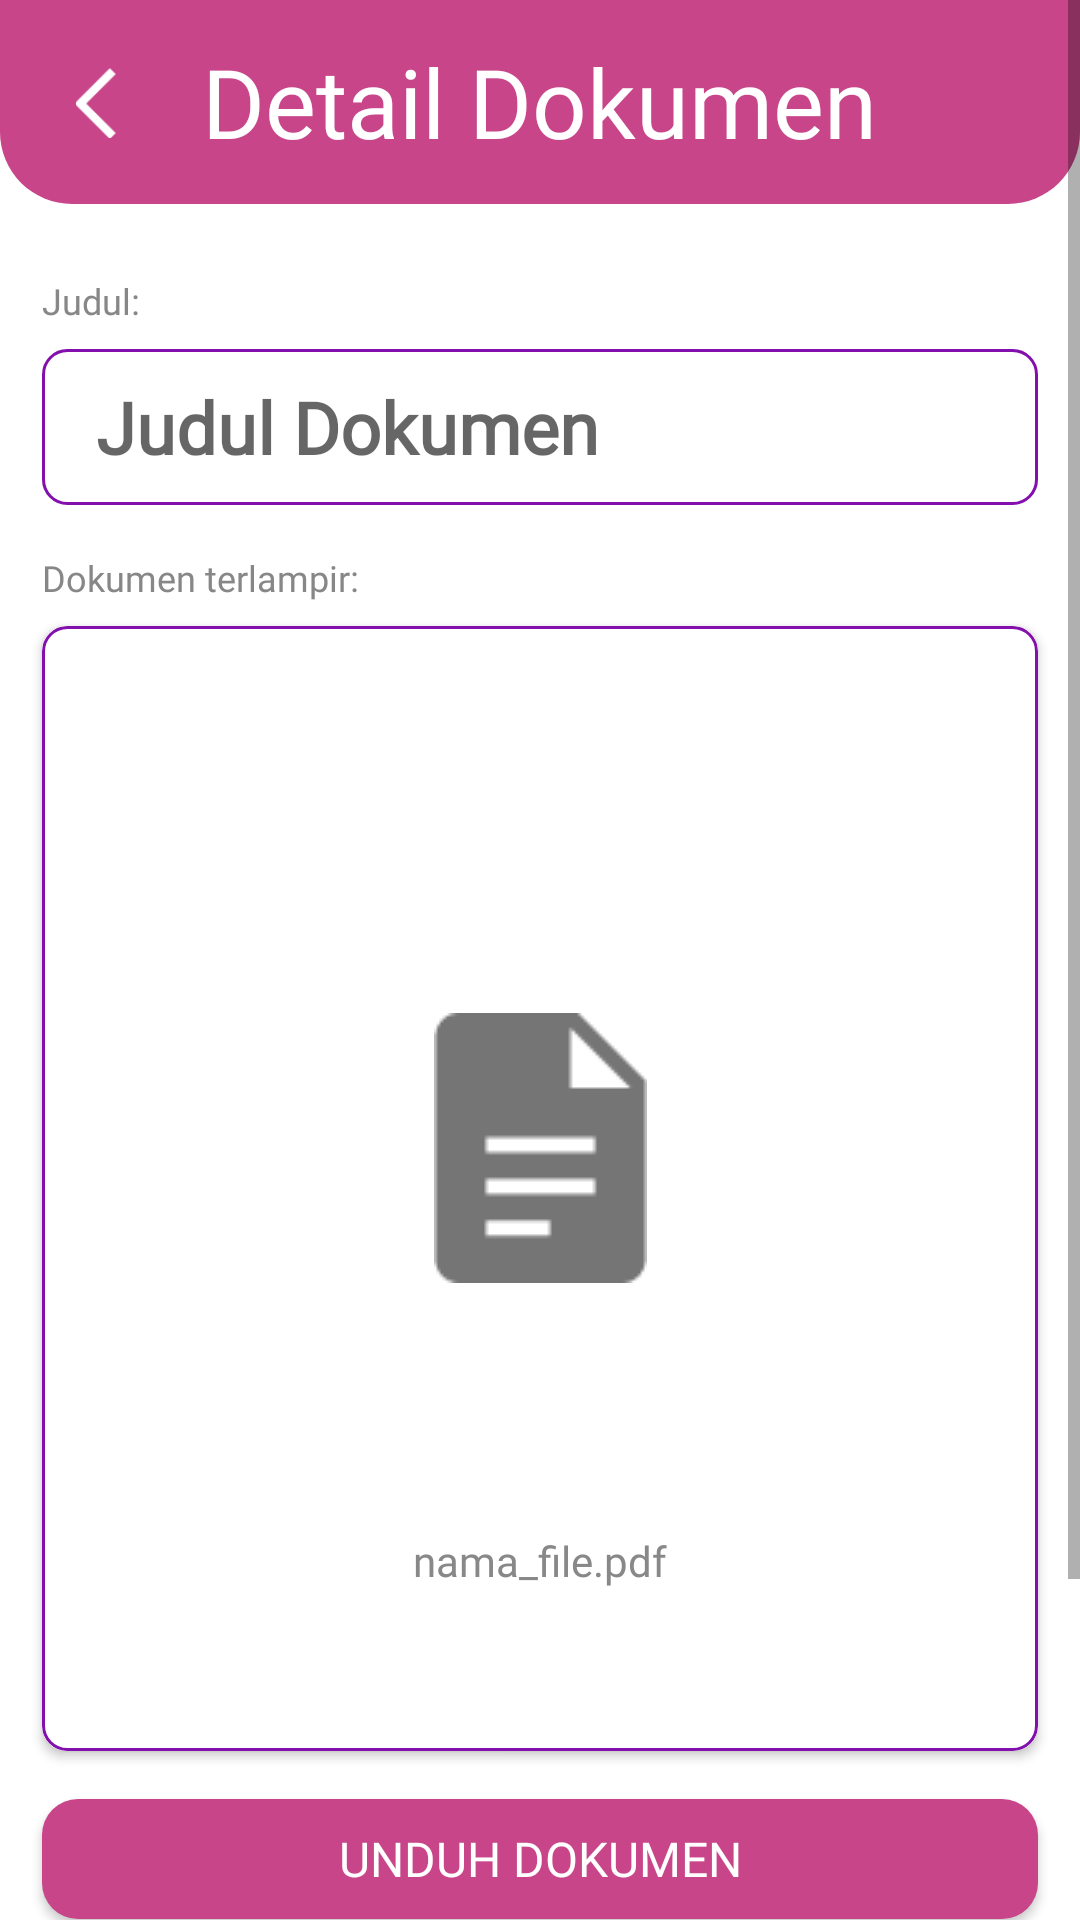

Screen size 1080×1920. Icon name, then its box in pixels as (x1, y1, x2, y2):
Ikon dokumen: (434, 1013, 647, 1283)
Kembali: (76, 68, 116, 138)
